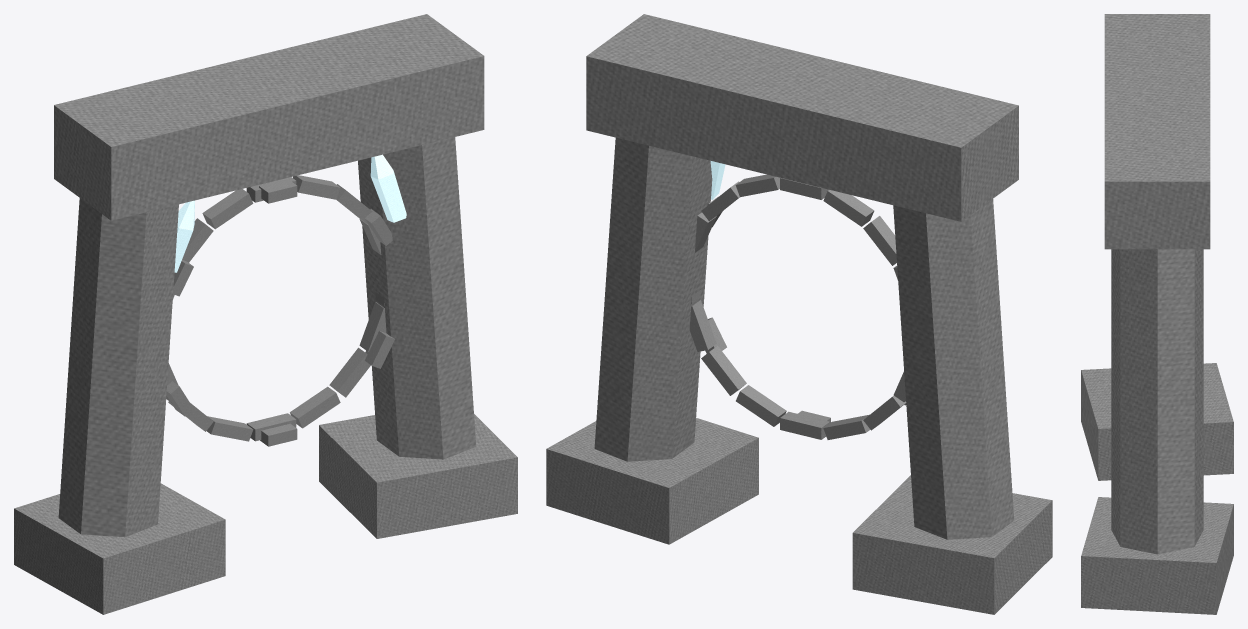
File: passage-stone.glb
The picture shows the model from 3 angles, left to right: view 1: azimuth 30°, elevation 25°; view 2: azimuth 150°, elevation 25°; view 3: azimuth 270°, elevation 25°; orthographic projection. The views are drawn at different scales.
Visible parts, largest first — view 1: lintel, left-stone, right-stone, left-foot, right-foot, right-key, passage-ring-5, passage-ring-13, passage-ring-14, left-key, passage-ring-3, passage-ring-11 (+2 smaller); view 2: lintel, left-stone, right-stone, right-foot, left-foot, passage-ring-14, passage-ring-13, passage-ring-5, passage-ring-12, passage-ring-15, passage-ring-6, passage-ring-11 (+1 smaller); view 3: right-stone, lintel, right-foot, left-foot.
Part boxes in pixels (x1,y1,x2,y2): lintel: [54, 14, 484, 220]; left-stone: [58, 198, 178, 537]; right-stone: [358, 137, 476, 459]; left-foot: [14, 483, 225, 614]; right-foot: [319, 414, 517, 538]; right-key: [370, 154, 406, 222]; passage-ring-5: [202, 189, 253, 229]; passage-ring-13: [290, 386, 340, 428]; passage-ring-14: [329, 347, 370, 397]; left-key: [174, 200, 194, 272]; passage-ring-3: [293, 175, 340, 199]; passage-ring-11: [207, 416, 253, 441]; lintel: [586, 14, 1018, 221]; left-stone: [893, 199, 1014, 539]; right-stone: [594, 137, 712, 461]; right-foot: [546, 418, 758, 544]; left-foot: [852, 475, 1052, 614]; passage-ring-14: [701, 346, 746, 395]; passage-ring-13: [736, 385, 786, 426]; passage-ring-5: [823, 190, 874, 226]; passage-ring-12: [780, 411, 829, 439]; passage-ring-15: [689, 300, 716, 351]; passage-ring-6: [863, 216, 896, 265]; passage-ring-11: [823, 414, 870, 439]; right-stone: [1111, 249, 1203, 554]; lintel: [1104, 14, 1210, 249]; right-foot: [1081, 497, 1233, 614]; left-foot: [1081, 363, 1233, 480].
Bounding box in the file's own units: 2.15 × 2.1 × 0.6934.
Materials: 5 (5 with a texture image).
